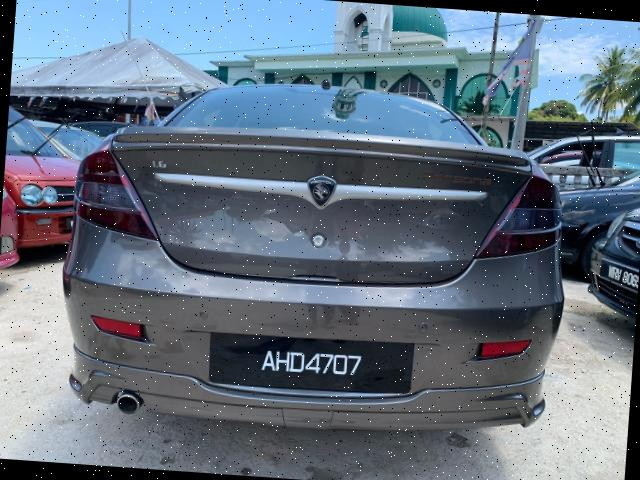License_Plate: (218, 334, 397, 388), (597, 259, 640, 299)
car: (57, 54, 568, 429)
